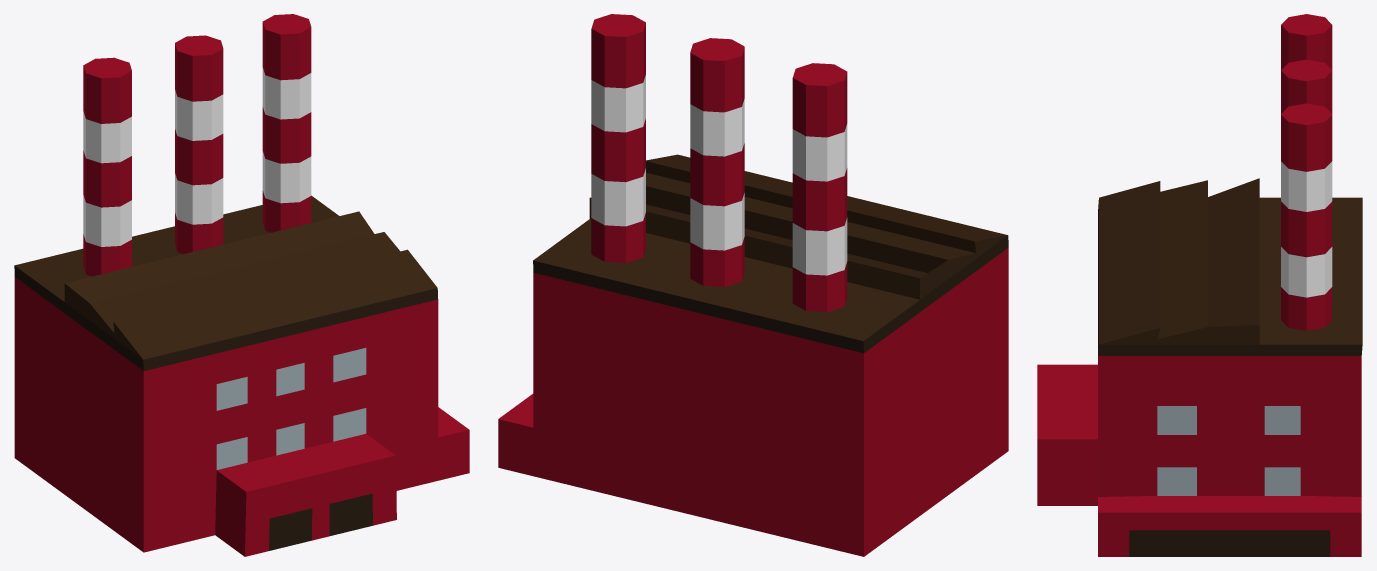
File: manufacturing.gltf
3 views of the same model, side by side, from view 1: azimuth 30°, elevation 25°; view 2: azimuth 150°, elevation 25°; view 3: azimuth 270°, elevation 25° (orthographic). The views are drawn at different scales.
Visible parts, largest first — view 1: Manufacturing; view 2: Manufacturing; view 3: Manufacturing.
Boxes of the visible parts, box(x1,y1,x2,y2) form: Manufacturing: box(14, 14, 469, 556); Manufacturing: box(498, 14, 1008, 556); Manufacturing: box(1037, 14, 1362, 556).
Bounding box in the file's own units: 1.08 × 1.24 × 0.9113.
1 material, 1 textured.
